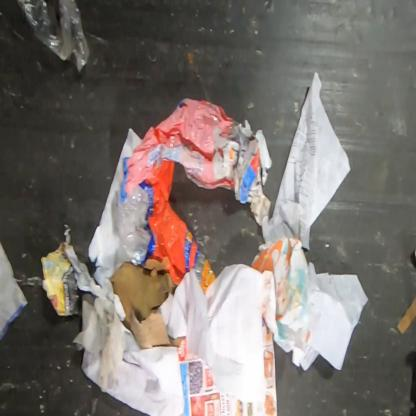cardboard: (109, 256, 187, 351)
soft_plastic: (117, 98, 236, 295), (17, 0, 91, 77)
